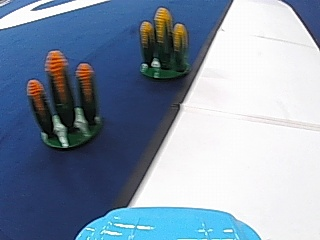corn: (28, 56, 101, 150), (137, 6, 191, 82)
